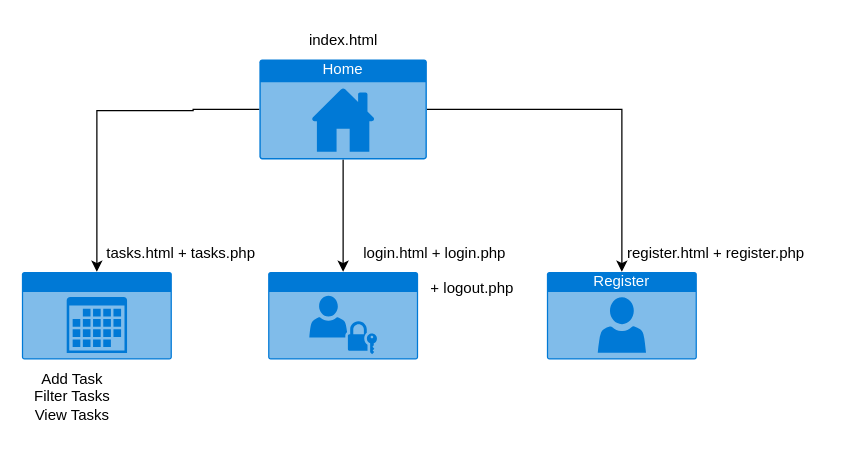
The diagram is 843 pixels wide and 455 high, and some of its shapes have lost their labels. Here are the shapes that lost their labels. From the top down, the centre of each, then its label:
At (96,315): "Tasks".
At (343,315): "Login".
